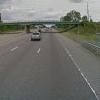Car: (26, 26, 50, 46)
